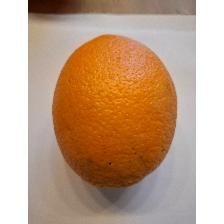Orange: (50, 32, 184, 192)
